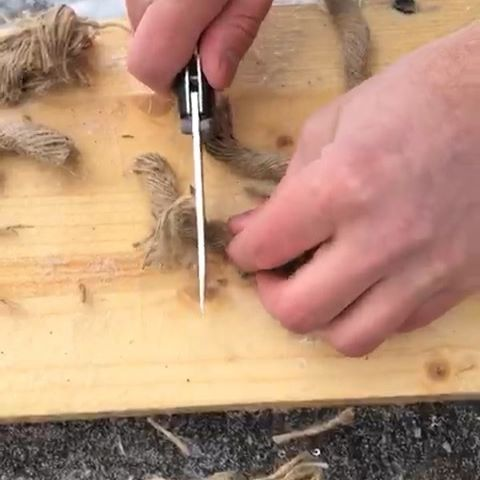knife: (176, 54, 213, 317)
